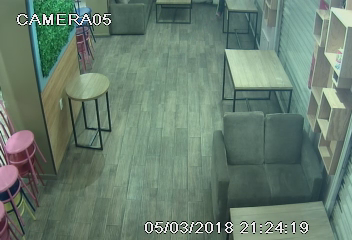libre: (200, 37, 303, 134), (51, 57, 125, 162)
